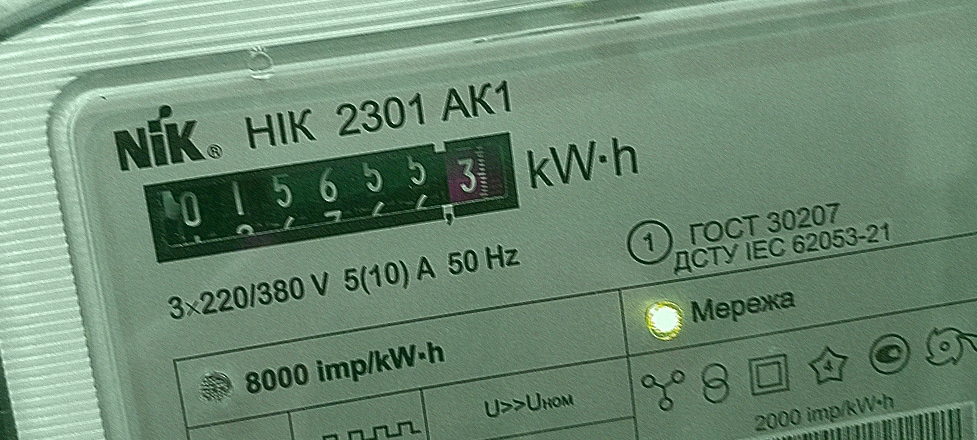0: (172, 188, 203, 232)
1: (223, 180, 247, 221)
3: (452, 158, 477, 196)
5: (265, 174, 294, 212), (357, 161, 384, 196), (403, 155, 427, 189)
6: (311, 168, 340, 207)
screen: (125, 113, 535, 284)
